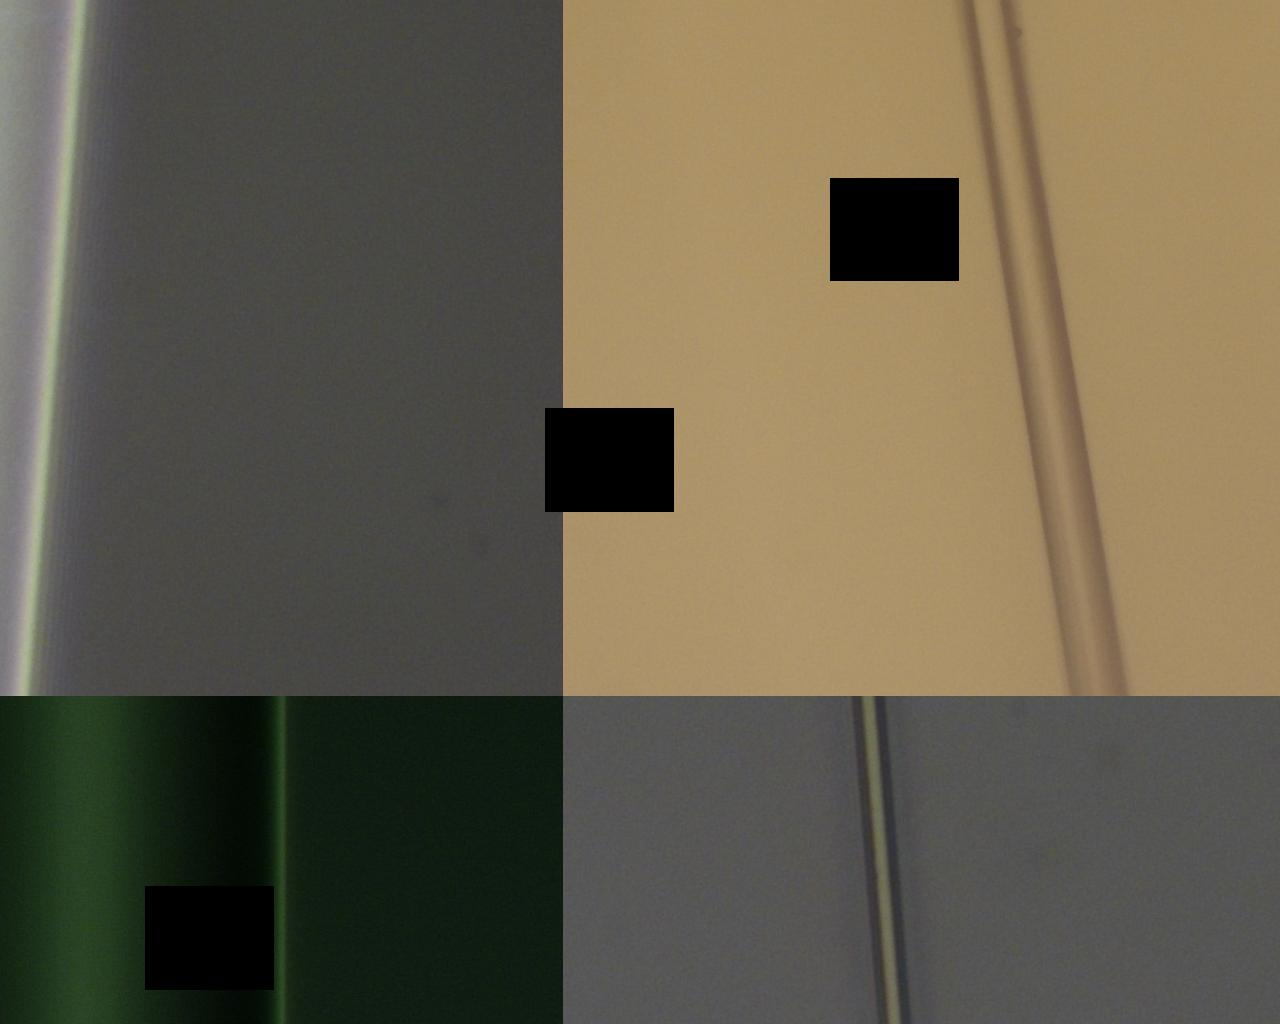fiber: (0, 491, 266, 1024), (639, 0, 777, 491), (439, 0, 576, 491)
